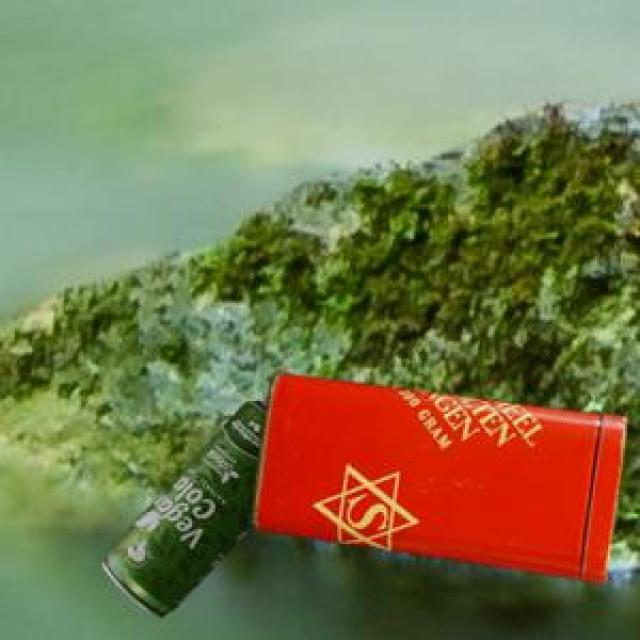logam: (249, 368, 623, 579), (99, 398, 263, 613)
